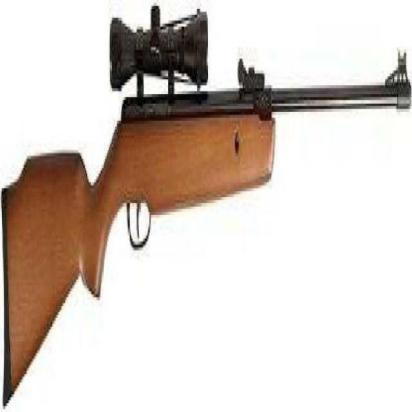Gun: (1, 8, 411, 399)
